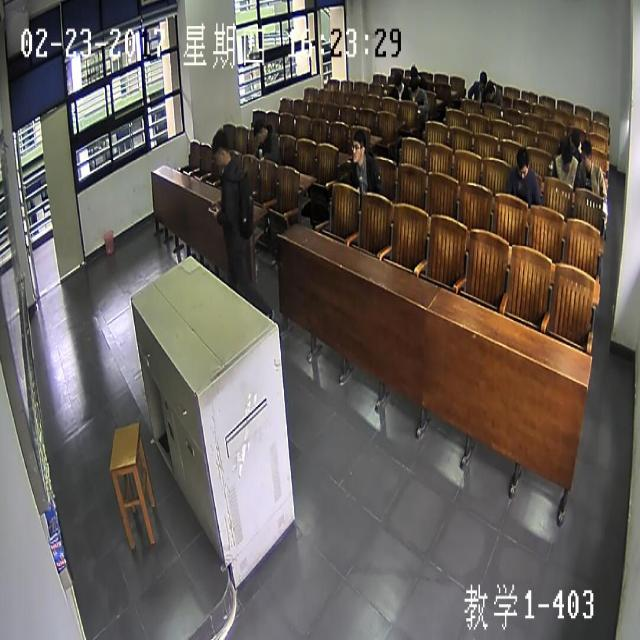person: (210, 128, 229, 166), (350, 131, 366, 163), (516, 146, 527, 177), (253, 116, 266, 142), (561, 144, 572, 173), (582, 140, 592, 166), (408, 77, 419, 97), (485, 77, 495, 98), (392, 72, 402, 90), (570, 129, 579, 149), (408, 61, 417, 77), (478, 70, 486, 87)
